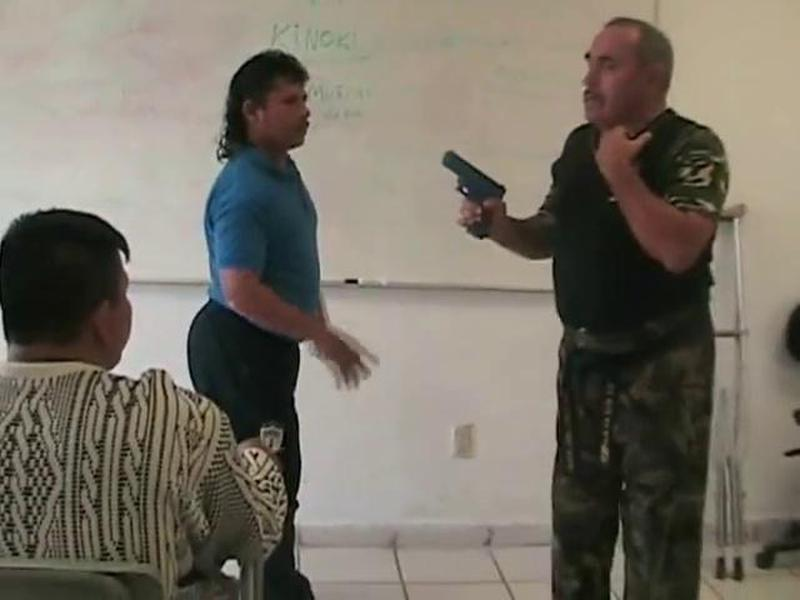Pistola: (440, 145, 512, 235)
